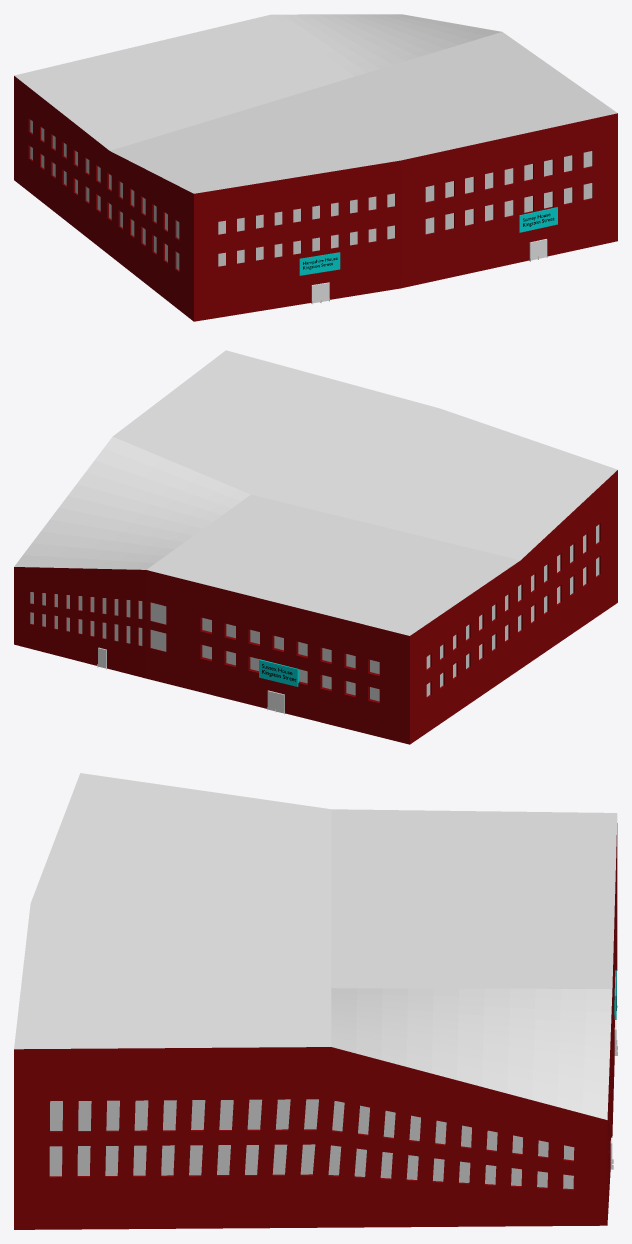
Rendered from KingstonStreetHouse5.fbx.
3 views of the same model, one above another, from view 1: azimuth 30°, elevation 25°; view 2: azimuth 150°, elevation 25°; view 3: azimuth 270°, elevation 25° (orthographic). The views are drawn at different scales.
Parts seen in each view (by area): view 1: KingstonStreetFlatComplex, Hampshire House, SurreyHouse; view 2: KingstonStreetFlatComplex, SussexHouse; view 3: KingstonStreetFlatComplex.
Part boxes in pixels (bbox=[...]): KingstonStreetFlatComplex: bbox=[14, 14, 617, 321]; Hampshire House: bbox=[299, 252, 340, 275]; SurreyHouse: bbox=[519, 207, 557, 232]; KingstonStreetFlatComplex: bbox=[14, 350, 617, 744]; SussexHouse: bbox=[259, 659, 299, 686]; KingstonStreetFlatComplex: bbox=[14, 773, 617, 1229].
Size of the model in its own units: 4916 by 1513 by 4543.
